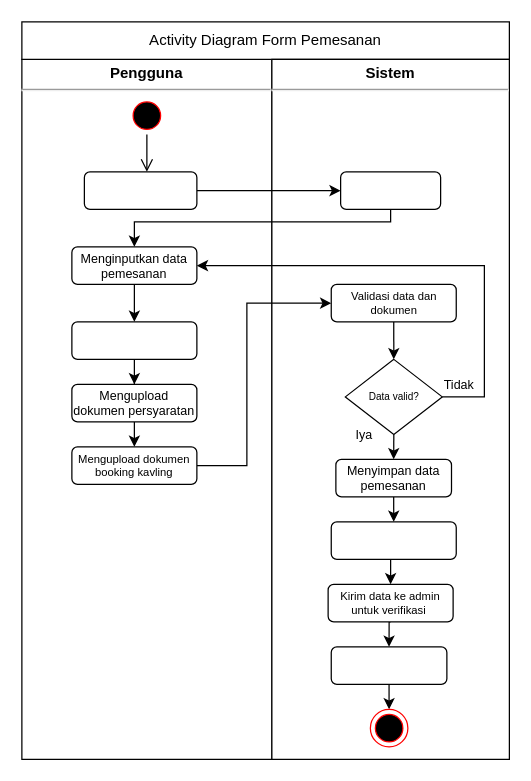
Some shapes in this 531 by 781 pixel diagram are drawn without their labels. Here are the shapes that lost their labels. From the top down, the centre of each, then its label:
At [140,190]: "Memilih Properti/Rumah".
At [390,190]: "Menampilkan form pemesanan".
At [134,340]: "Memilih pekerjaan (PNS/Non PNS)".
At [393,540]: "Menyimpan dokumen pengguna".
At [388,665]: "Menampilkan konfirmasi pemesanan".
